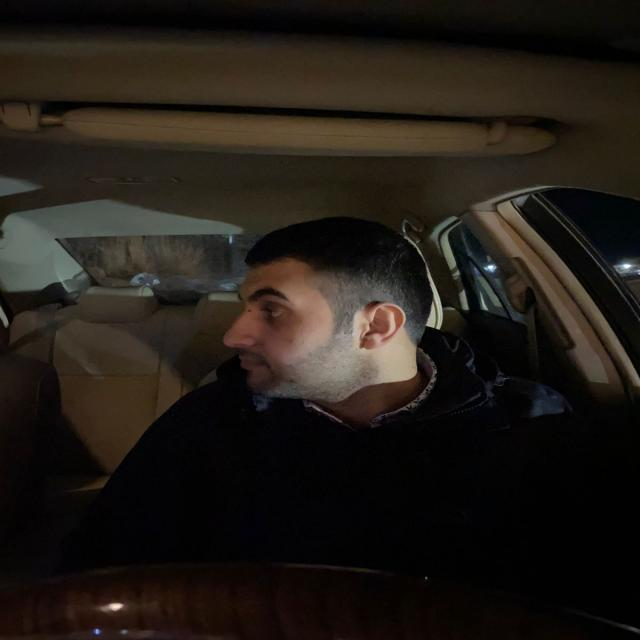LeftRight: (213, 214, 434, 414)
